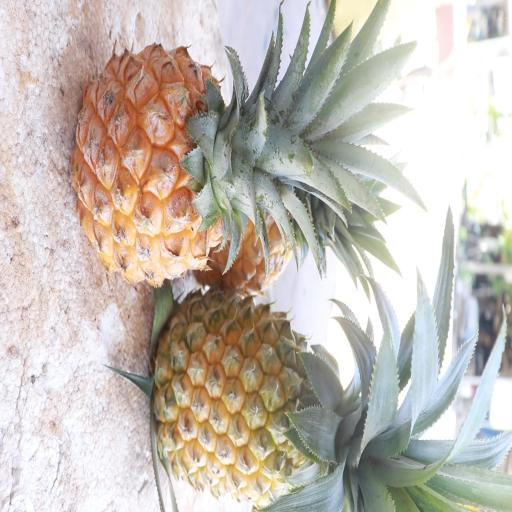Pineapple - v8 v1: (70, 38, 340, 294), (146, 285, 392, 508)
